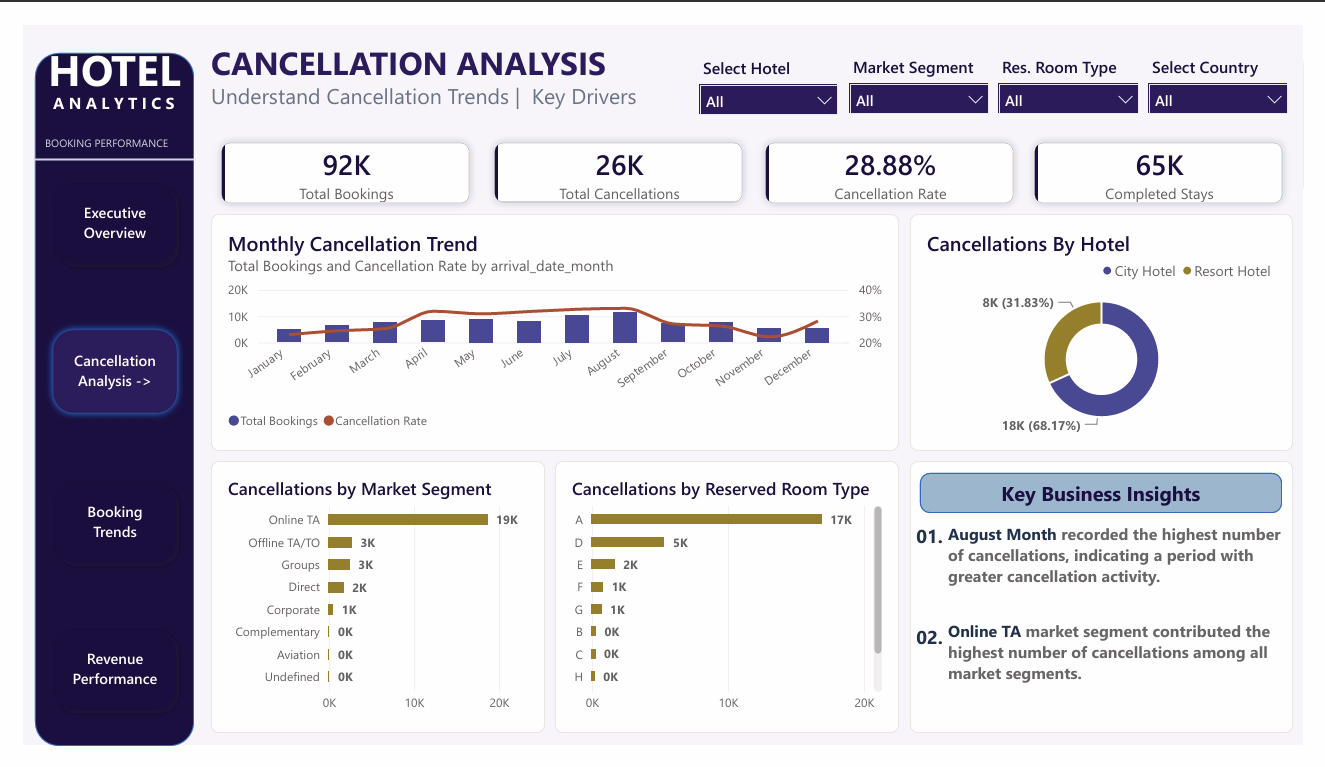

What the dashboard file says about the page in this screenshot:
{"tool":"powerbi","page":{"name":"Cancellation Analysis","canvas":[1280,720],"ordinal":1},"visuals":[{"type":"textbox","box":[186.6,13.7,1082.7,81],"z":0},{"type":"textbox","box":[186.6,54.9,465.2,39.8],"z":1000},{"type":"shape","box":[11,27.4,159.2,693],"z":2000},{"type":"textbox","box":[11,13.7,159.2,65.9],"z":3000},{"type":"textbox","box":[20.6,105.7,149.6,28.8],"z":4000},{"type":"shape","box":[11,119.4,159.2,28.8],"z":5000},{"type":"actionButton","box":[20.6,148.2,140,98.8],"z":6000},{"type":"textbox","box":[28.8,65.9,141.3,28.8],"z":7000},{"type":"actionButton","box":[20.6,296.4,140,98.8],"z":8000},{"type":"actionButton","box":[20.6,447.3,140,98.8],"z":9000},{"type":"actionButton","box":[20.6,594.2,140,98.8],"z":10000},{"type":"cardVisual","fields":{"Data":["Hotel Measures.Total Bookings"]},"box":[186.6,105.7,269,82.3],"z":11000},{"type":"slicer","fields":{"Values":["public hotel_bookings_unique.market_segment"]},"box":[820.6,30.2,149.6,64.5],"z":13000},{"type":"slicer","fields":{"Values":["public hotel_bookings_unique.country"]},"box":[1119.7,30.2,149.6,64.5],"z":14000},{"type":"slicer","fields":{"Values":["public hotel_bookings_unique.reserved_room_type"]},"box":[970.2,30.2,149.6,64.5],"z":15000},{"type":"cardVisual","fields":{"Data":["Hotel Measures.Total Cancellations"]},"box":[459.6,105.5,268.9,81.7],"z":16000},{"type":"cardVisual","fields":{"Data":["Hotel Measures.Cancellation Rate"]},"box":[731.4,105.7,269,82.3],"z":17000},{"type":"cardVisual","fields":{"Data":["Hotel Measures.Completed Stays"]},"box":[1000.3,105.7,269,82.3],"z":18000},{"type":"lineClusteredColumnComboChart","title":"Monthly Cancellation Trend","fields":{"Category":["public hotel_bookings_unique.arrival_date_month"],"Y":["Hotel Measures.Total Bookings"],"Y2":["Hotel Measures.Cancellation Rate"]},"box":[186.6,188,688.9,237.4],"z":19000},{"type":"donutChart","title":"Cancellations By Hotel","fields":{"Category":["public hotel_bookings_unique.hotel"],"Y":["Hotel Measures.Total Cancellations"]},"box":[886.5,188,382.8,237.4],"z":20000},{"type":"clusteredBarChart","title":"Cancellations by Market Segment","fields":{"Category":["public hotel_bookings_unique.market_segment"],"Y":["Hotel Measures.Total Cancellations"]},"box":[186.6,435,334.8,271.7],"z":21000},{"type":"clusteredBarChart","title":"Cancellations by Reserved Room Type","fields":{"Category":["public hotel_bookings_unique.reserved_room_type"],"Y":["Hotel Measures.Total Cancellations"]},"box":[531,435,344.4,271.7],"z":22000},{"type":"textbox","title":"Key Insights","box":[886.5,435,382.8,271.7],"z":23000},{"type":"shape","box":[896.1,447.3,362.3,39.8],"z":24000},{"type":"slicer","fields":{"Values":["public hotel_bookings_unique.hotel"]},"box":[670.6,30.6,148.1,64.7],"z":25000},{"type":"textbox","box":[924.3,497,333.6,85.1],"z":26000},{"type":"textbox","box":[886.8,497,37.4,195.7],"z":27000},{"type":"textbox","box":[924.3,594,333.6,98.7],"z":28000}]}

Visuals, with their boxes in screenshot pixels (x1, y1, x2, y2), scaled from the page's 1280x720 canvas onto the 1325x767 screenshot:
textbox: BBox(193, 15, 1314, 101)
textbox: BBox(193, 58, 675, 101)
shape: BBox(11, 29, 176, 766)
textbox: BBox(11, 15, 176, 85)
textbox: BBox(21, 113, 176, 143)
shape: BBox(11, 127, 176, 158)
actionButton: BBox(21, 158, 166, 263)
textbox: BBox(30, 70, 176, 101)
actionButton: BBox(21, 316, 166, 421)
actionButton: BBox(21, 476, 166, 582)
actionButton: BBox(21, 633, 166, 738)
cardVisual - Hotel Measures.Total Bookings: BBox(193, 113, 472, 200)
slicer - public hotel_bookings_unique.market_segment: BBox(849, 32, 1004, 101)
slicer - public hotel_bookings_unique.country: BBox(1159, 32, 1314, 101)
slicer - public hotel_bookings_unique.reserved_room_type: BBox(1004, 32, 1159, 101)
cardVisual - Hotel Measures.Total Cancellations: BBox(476, 112, 754, 199)
cardVisual - Hotel Measures.Cancellation Rate: BBox(757, 113, 1036, 200)
cardVisual - Hotel Measures.Completed Stays: BBox(1035, 113, 1314, 200)
"Monthly Cancellation Trend" lineClusteredColumnComboChart: BBox(193, 200, 906, 453)
"Cancellations By Hotel" donutChart: BBox(918, 200, 1314, 453)
"Cancellations by Market Segment" clusteredBarChart: BBox(193, 463, 540, 753)
"Cancellations by Reserved Room Type" clusteredBarChart: BBox(550, 463, 906, 753)
"Key Insights" textbox: BBox(918, 463, 1314, 753)
shape: BBox(928, 476, 1303, 519)
slicer - public hotel_bookings_unique.hotel: BBox(694, 33, 847, 102)
textbox: BBox(957, 529, 1302, 620)
textbox: BBox(918, 529, 957, 738)
textbox: BBox(957, 633, 1302, 738)
